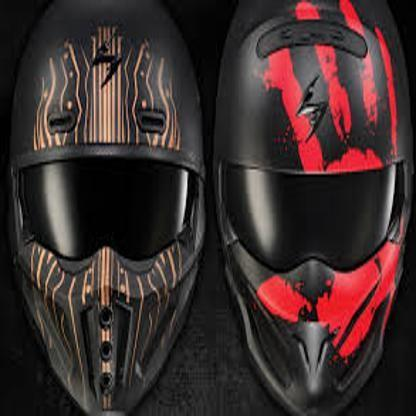not trash: (6, 9, 209, 416), (218, 0, 416, 416)
